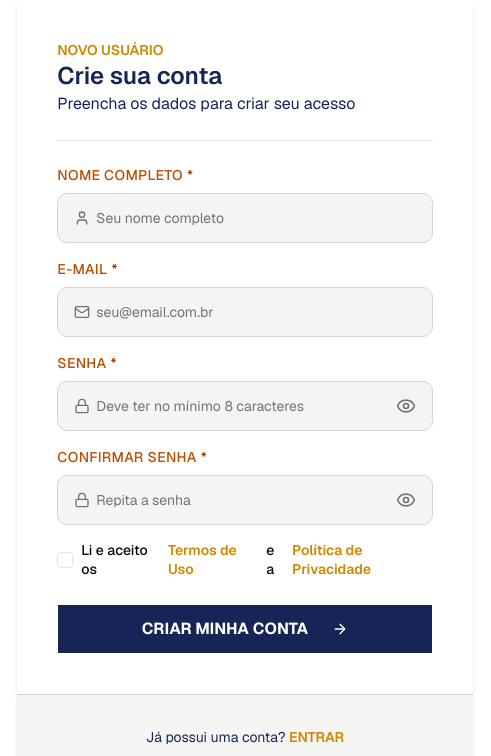
it: SignUpForm › should display error message when passwords do not match
Type "Test User" into the field labelled "Nome completo *" at (257, 218), box [90,202,424,234]
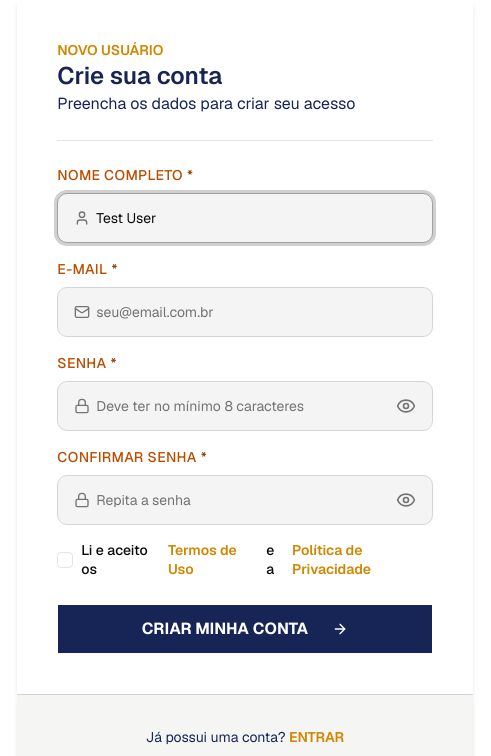
Type "teste@teste.com" into the field labelled "e-mail *" at (257, 312), box [90,296,424,328]
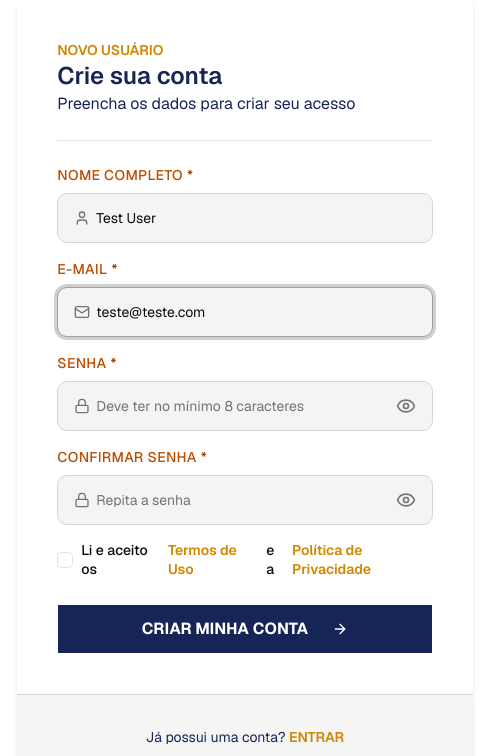
Type "testpassword123" into the password field labelled "senha *" at (243, 406), box [90,390,396,422]
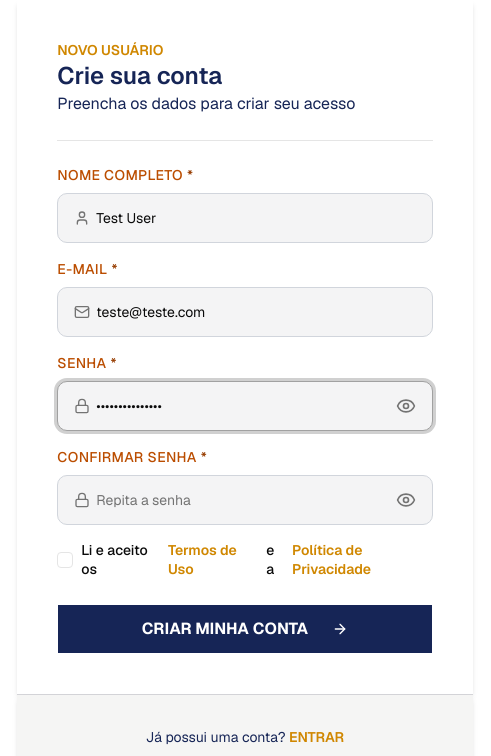
Type "differentpassword123" into the password field labelled "confirmar senha *" at (243, 500), box [90,484,396,516]
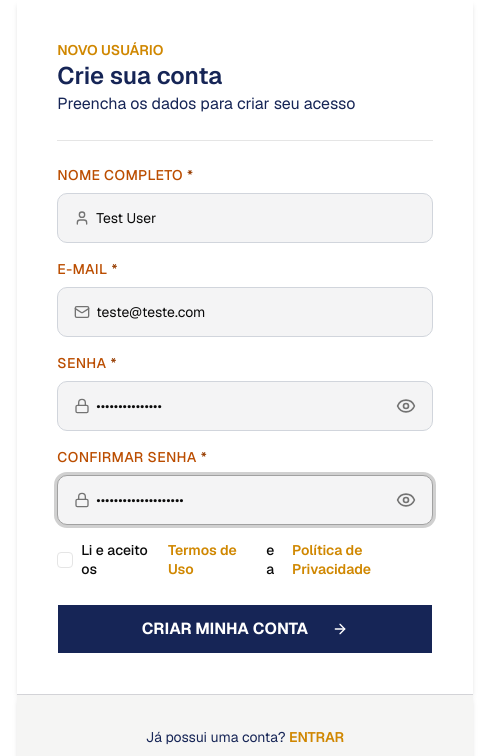
Click the checkbox at (65, 560), box [57,552,73,568]
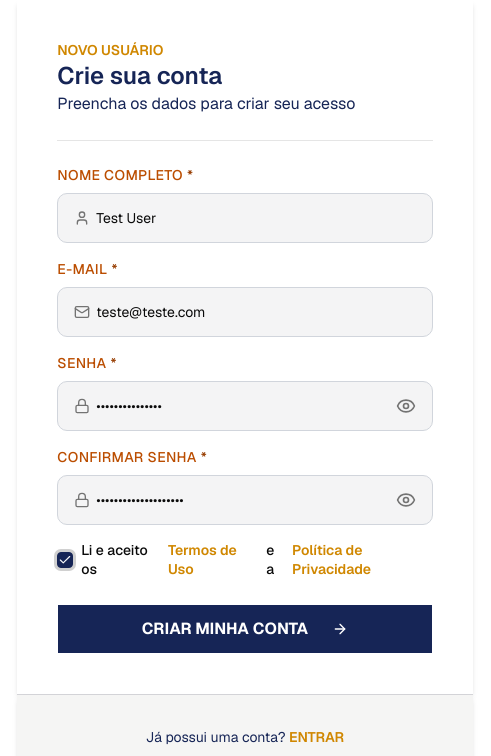
Click the button "criar minha conta" at (245, 628), box [57,604,433,654]
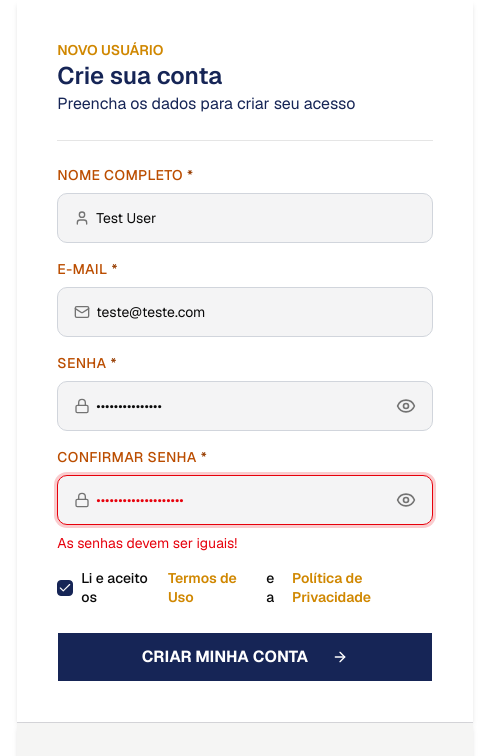
Result: the message reads "As senhas devem ser iguais!" at [57,534,237,552]
